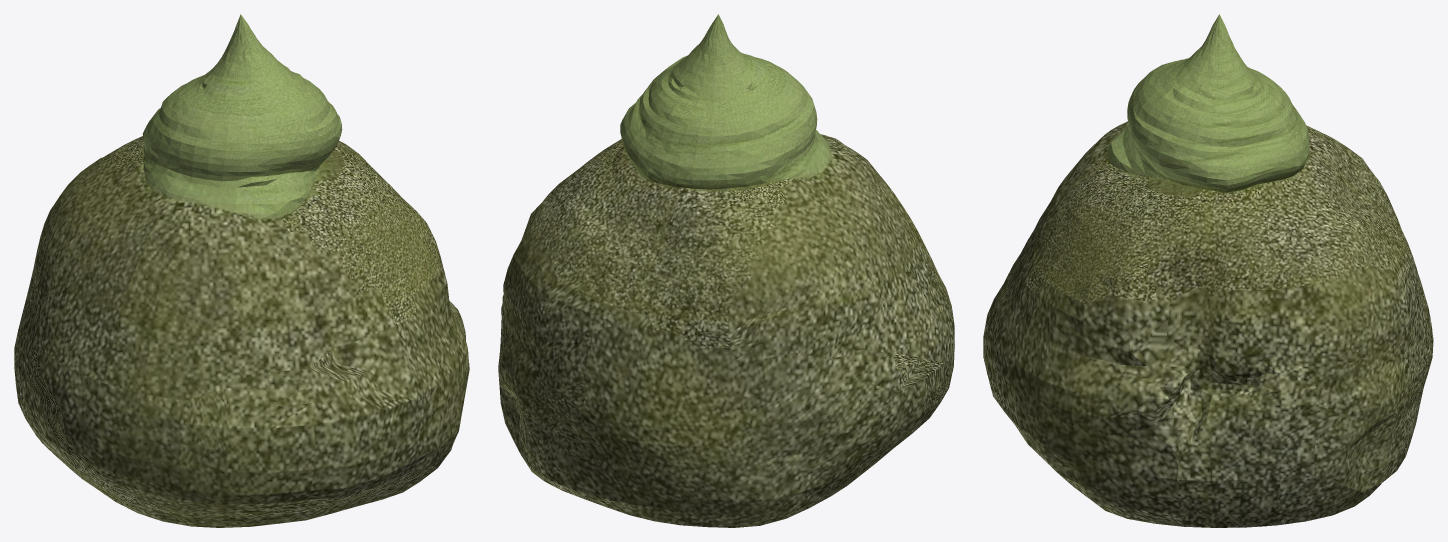
File: food_2.glb
3 views of the same model, side by side, from view 1: azimuth 30°, elevation 25°; view 2: azimuth 150°, elevation 25°; view 3: azimuth 270°, elevation 25° (orthographic). The views are drawn at different scales.
Visible parts, largest first — view 1: tripo_node_c22a52a2-bf9c-4053-8eae-5126e59342d5; view 2: tripo_node_c22a52a2-bf9c-4053-8eae-5126e59342d5; view 3: tripo_node_c22a52a2-bf9c-4053-8eae-5126e59342d5.
Part boxes in pixels (box(x1,y1,x2,y2)): tripo_node_c22a52a2-bf9c-4053-8eae-5126e59342d5: box(14, 14, 469, 527); tripo_node_c22a52a2-bf9c-4053-8eae-5126e59342d5: box(498, 14, 954, 527); tripo_node_c22a52a2-bf9c-4053-8eae-5126e59342d5: box(983, 14, 1433, 527).
Size of the model in its own units: 0.9043 by 0.998 by 0.916.
Materials: 1 (1 with a texture image).
